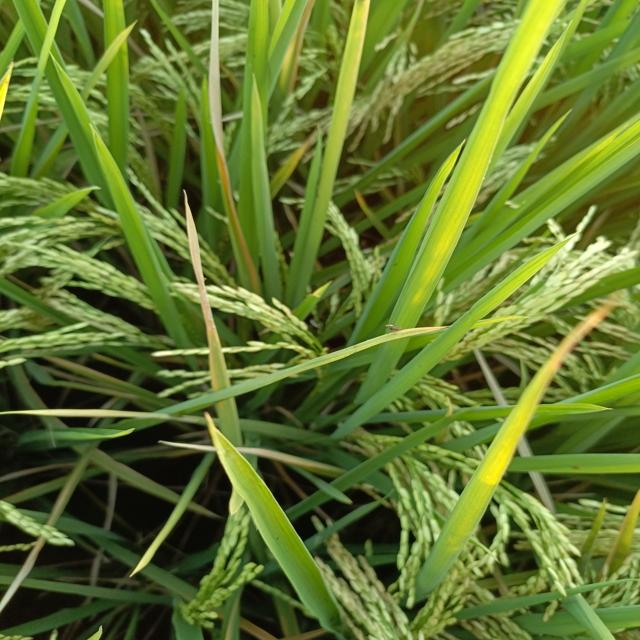Brown spot: (515, 284, 630, 429), (181, 187, 231, 389), (270, 125, 329, 197), (196, 407, 260, 468), (398, 323, 451, 342)
Leaf scald: (384, 321, 404, 339)
